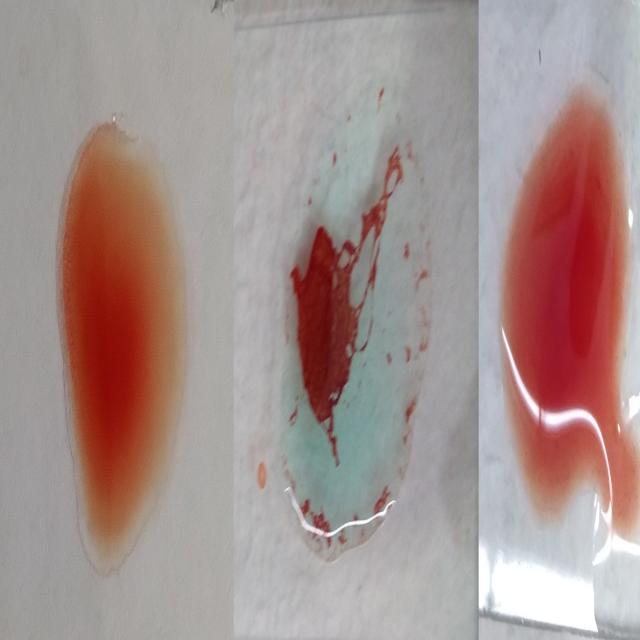A: (280, 86, 439, 564)
